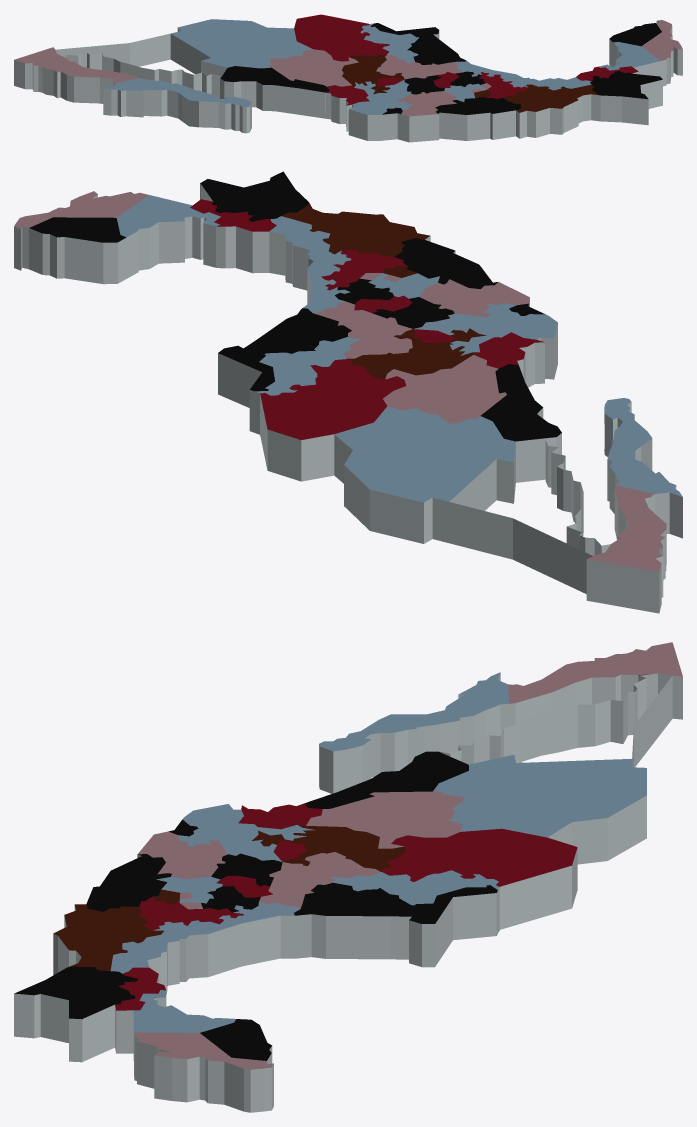
Rendered from mapa_mexico.glb.
The picture shows the model from 3 angles, top to bottom: view 1: azimuth 30°, elevation 25°; view 2: azimuth 150°, elevation 25°; view 3: azimuth 270°, elevation 25°; orthographic projection. The views are drawn at different scales.
Visible parts, largest first — view 1: Plane; view 2: Plane; view 3: Plane.
Boxes of the visible parts, bbox=[...] form: Plane: bbox=[14, 14, 682, 142]; Plane: bbox=[14, 171, 682, 613]; Plane: bbox=[14, 642, 682, 1112].
Bounding box in the file's own units: 12.16 × 0.6155 × 8.04.
